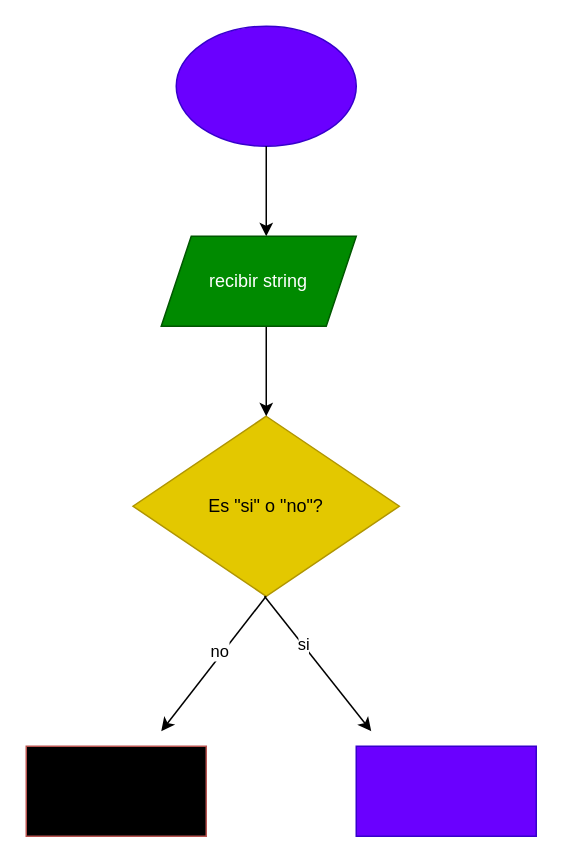
Image size: 563x863. Some labels were removed from this diagram. Each missing label, with the box of its shape:
INICIO: (175, 25, 356, 146)
Retornar string: (355, 745, 536, 836)
